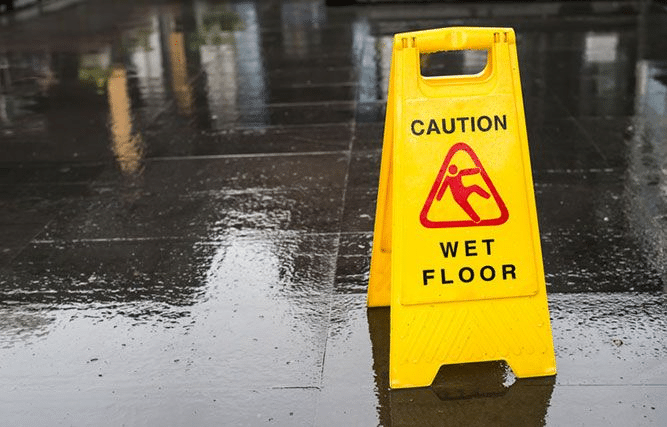wet caution sign: (348, 8, 561, 408)
